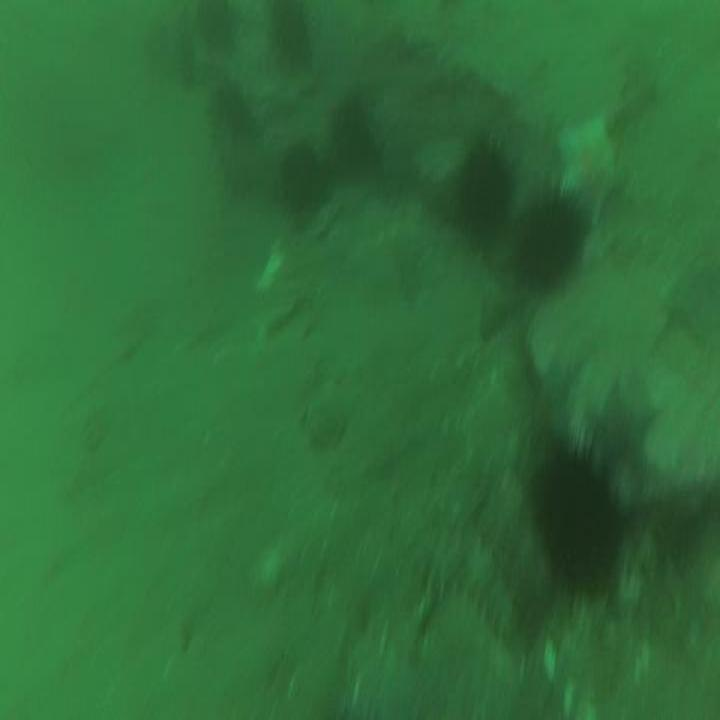echinus: (519, 411, 637, 617), (512, 165, 588, 299), (450, 122, 524, 251), (328, 87, 382, 181), (276, 132, 332, 215), (267, 5, 315, 66)
starfish: (557, 108, 627, 226)
